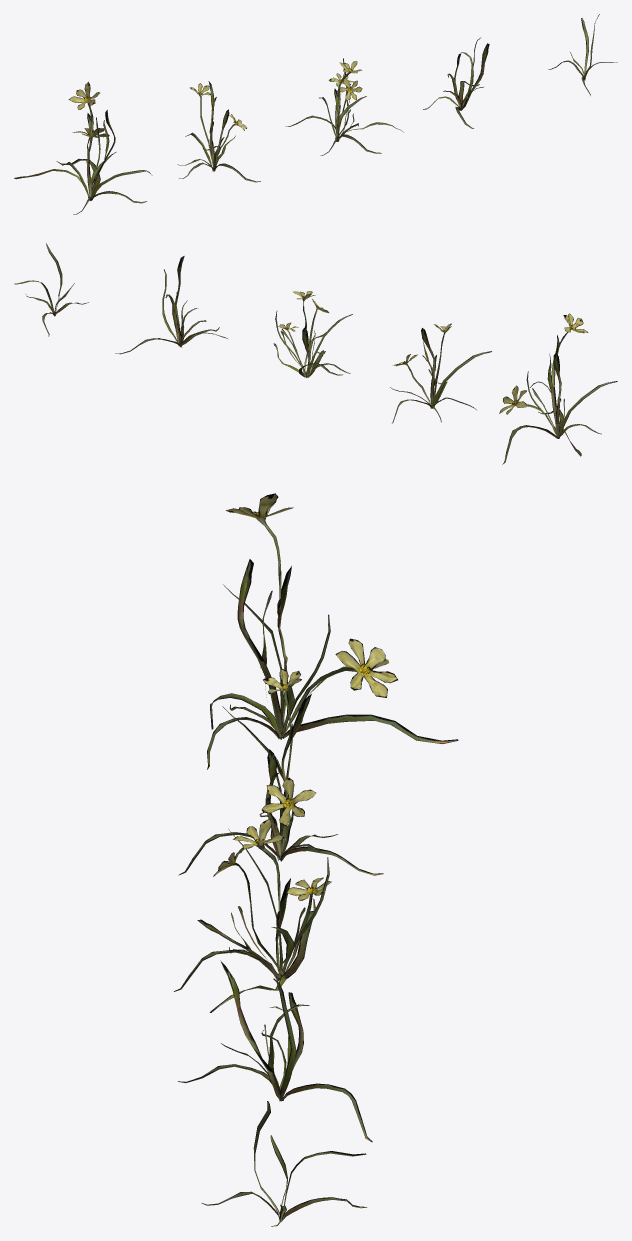
The model's file is flower_empodium.glb.
The picture shows the model from 3 angles, top to bottom: view 1: azimuth 30°, elevation 25°; view 2: azimuth 150°, elevation 25°; view 3: azimuth 270°, elevation 25°; orthographic projection. The views are drawn at different scales.
Visible parts, largest first — view 1: flower_empodium_a_LOD0, flower_empodium_c_LOD0, flower_empodium_b_LOD0, flower_empodium_d_LOD0, flower_empodium_e_LOD0; view 2: flower_empodium_a_LOD0, flower_empodium_c_LOD0, flower_empodium_b_LOD0, flower_empodium_d_LOD0, flower_empodium_e_LOD0; view 3: flower_empodium_a_LOD0, flower_empodium_c_LOD0, flower_empodium_b_LOD0, flower_empodium_d_LOD0, flower_empodium_e_LOD0.
Part boxes in pixels (box(x1,y1,x2,y2)): flower_empodium_a_LOD0: box(14, 82, 152, 214); flower_empodium_c_LOD0: box(285, 58, 403, 155); flower_empodium_b_LOD0: box(177, 81, 260, 182); flower_empodium_d_LOD0: box(423, 37, 489, 128); flower_empodium_e_LOD0: box(548, 14, 617, 95); flower_empodium_a_LOD0: box(499, 313, 617, 464); flower_empodium_c_LOD0: box(273, 291, 352, 377); flower_empodium_b_LOD0: box(390, 323, 491, 423); flower_empodium_d_LOD0: box(115, 256, 227, 354); flower_empodium_e_LOD0: box(14, 243, 88, 336); flower_empodium_a_LOD0: box(207, 493, 458, 769); flower_empodium_c_LOD0: box(174, 818, 331, 1012); flower_empodium_b_LOD0: box(178, 668, 383, 875); flower_empodium_d_LOD0: box(178, 960, 372, 1142); flower_empodium_e_LOD0: box(201, 1101, 366, 1226).
Size of the model in its own units: 1.32 by 0.2684 by 0.2841.
Materials: 1 (1 with a texture image).
